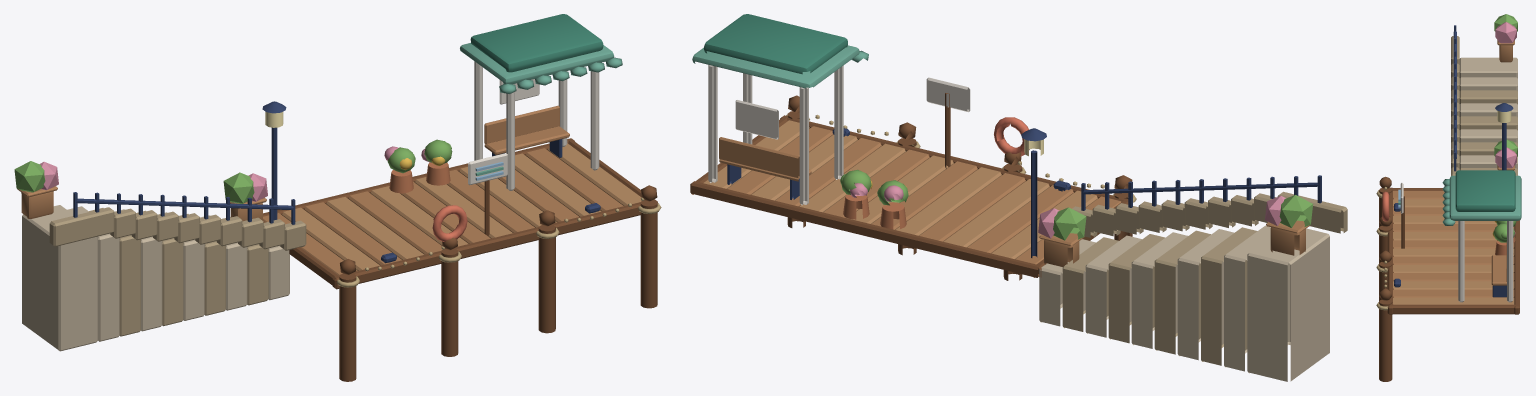
File: ac_pier.glb
The picture shows the model from 3 angles, left to right: view 1: azimuth 30°, elevation 25°; view 2: azimuth 150°, elevation 25°; view 3: azimuth 270°, elevation 25°; orthographic projection. The views are drawn at different scales.
Visible parts, largest first — view 1: body; view 2: body; view 3: body.
Part boxes in pixels (x1,y1,x2,y2): body: [14, 14, 661, 381]; body: [690, 14, 1347, 381]; body: [1376, 14, 1521, 381].
Size of the model in its own units: 12.81 by 4.98 by 3.74.
